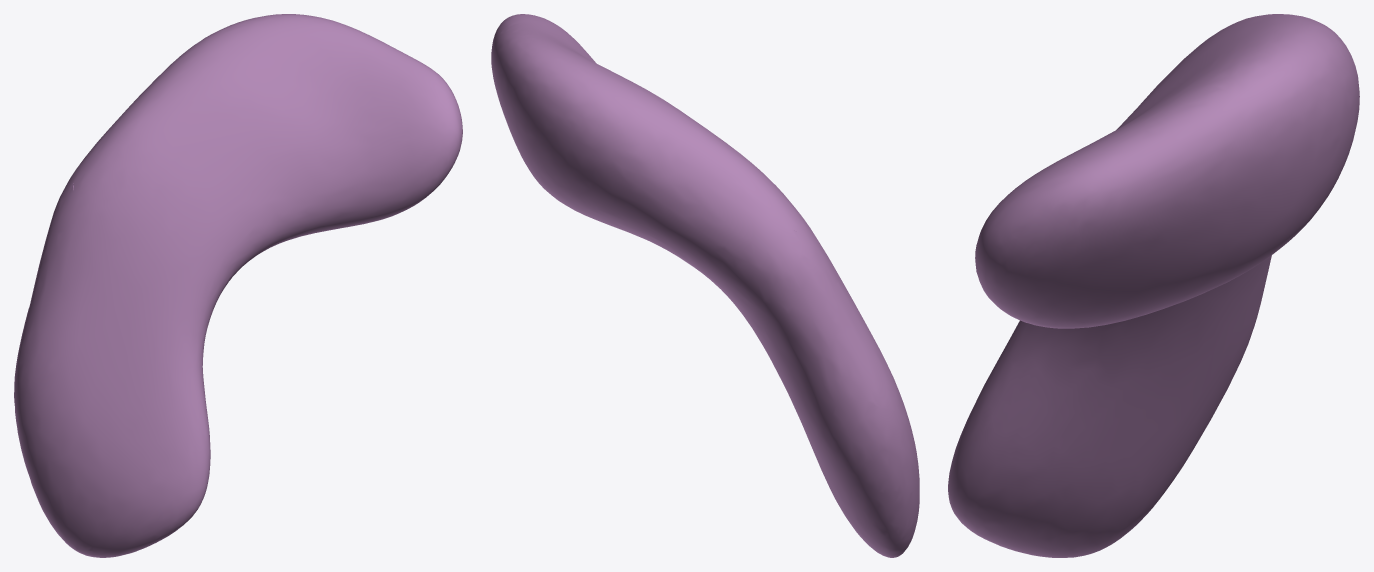
3 renders of one model, left to right at view 1: azimuth 30°, elevation 25°; view 2: azimuth 150°, elevation 25°; view 3: azimuth 270°, elevation 25°, orthographic. The views are drawn at different scales.
Parts seen in each view (by area): view 1: 右侧薄小叶; view 2: 右侧薄小叶; view 3: 右侧薄小叶.
Part boxes in pixels (left/top/right/bottom): 右侧薄小叶: left=14, top=14, right=462, bottom=557; 右侧薄小叶: left=491, top=14, right=919, bottom=557; 右侧薄小叶: left=948, top=14, right=1359, bottom=557.
Bounding box in the file's own units: 0.0513 × 0.0539 × 0.0287.
